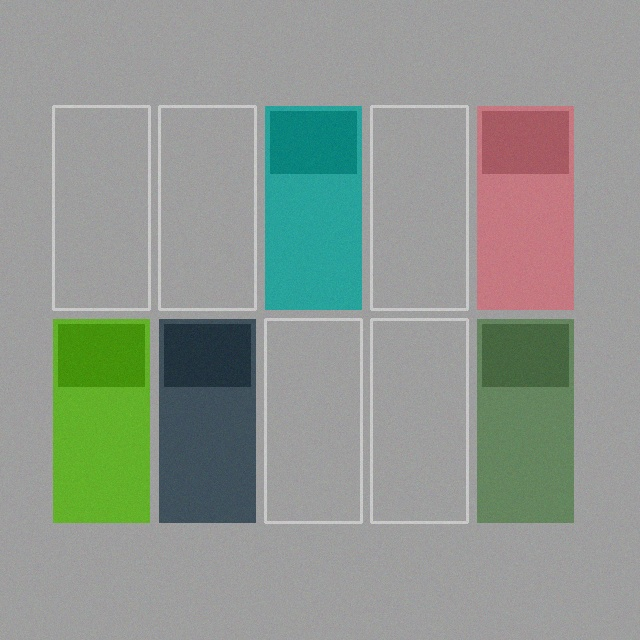space-empty: (53, 106, 149, 309), (159, 106, 255, 309), (371, 106, 467, 309), (265, 319, 361, 522), (371, 319, 467, 522)
space-occupied: (265, 106, 361, 309), (477, 106, 573, 309), (53, 319, 149, 522), (159, 319, 255, 522), (477, 319, 573, 522)
